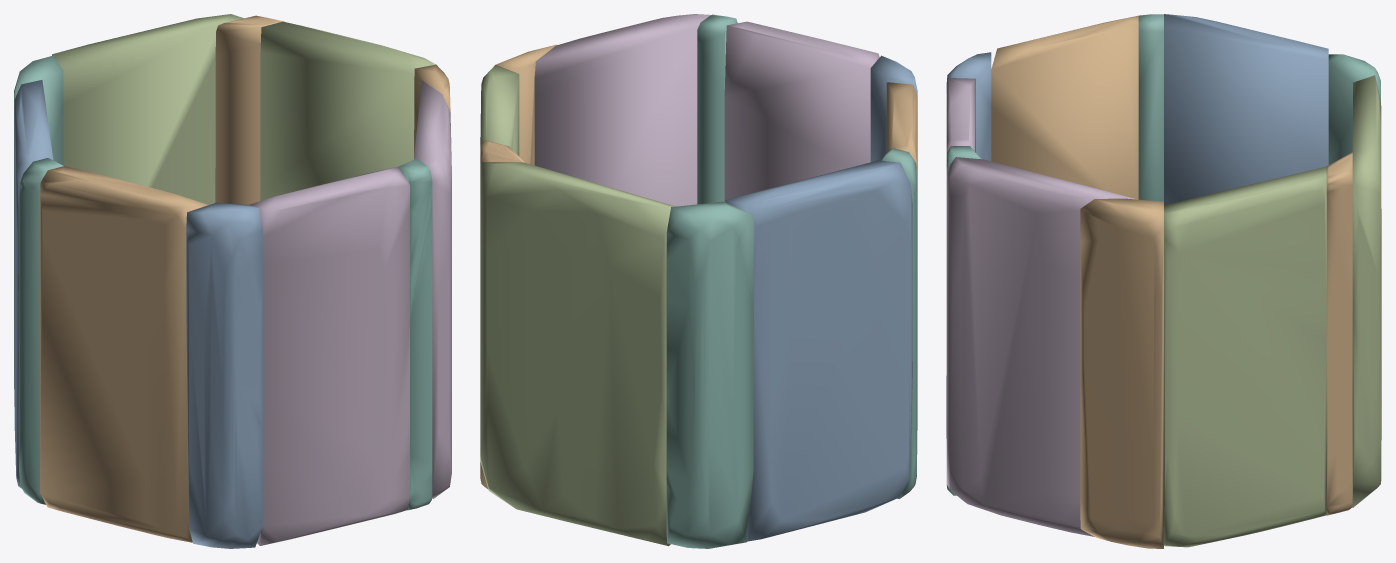
The picture shows the model from 3 angles, left to right: view 1: azimuth 30°, elevation 25°; view 2: azimuth 150°, elevation 25°; view 3: azimuth 270°, elevation 25°; orthographic projection.
Size of the model in its own units: 1.64 by 1.24 by 1.44.
